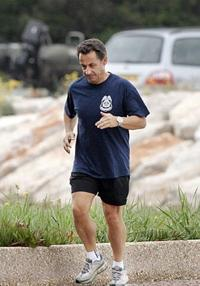person: (63, 38, 149, 286)
